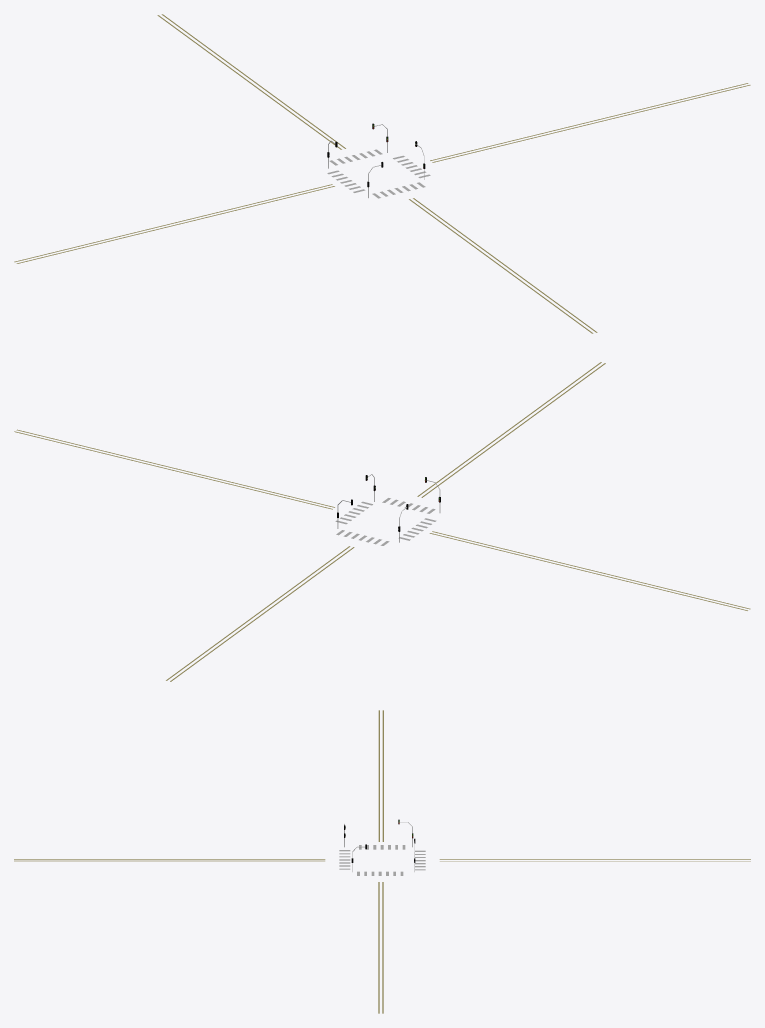
Rendered from int-test-9.fbx.
3 renders of one model, top to bottom at view 1: azimuth 30°, elevation 25°; view 2: azimuth 150°, elevation 25°; view 3: azimuth 270°, elevation 25°, orthographic. The views are drawn at different scales.
Visible parts, largest first — view 1: STRET_LN.000, STRET_LN.015_STRET_LN.000, STRET_LN.016_STRET_LN.000, STRET_LN.012_STRET_LN.000; view 2: STRET_LN.015_STRET_LN.000, STRET_LN.000, STRET_LN.012_STRET_LN.000, STRET_LN.016_STRET_LN.000; view 3: STRET_LN.016_STRET_LN.000, STRET_LN.012_STRET_LN.000, STRET_LN.000, STRET_LN.015_STRET_LN.000.
Part boxes in pixels (bbox=[...]): STRET_LN.000: bbox=[14, 184, 334, 263]; STRET_LN.015_STRET_LN.000: bbox=[430, 83, 750, 162]; STRET_LN.016_STRET_LN.000: bbox=[409, 198, 597, 333]; STRET_LN.012_STRET_LN.000: bbox=[157, 14, 345, 149]; STRET_LN.015_STRET_LN.000: bbox=[14, 429, 334, 509]; STRET_LN.000: bbox=[429, 531, 750, 610]; STRET_LN.012_STRET_LN.000: bbox=[166, 546, 354, 681]; STRET_LN.016_STRET_LN.000: bbox=[417, 362, 605, 497]; STRET_LN.016_STRET_LN.000: bbox=[14, 859, 325, 861]; STRET_LN.012_STRET_LN.000: bbox=[439, 859, 750, 861]; STRET_LN.000: bbox=[378, 710, 383, 841]; STRET_LN.015_STRET_LN.000: bbox=[378, 882, 383, 1013].
Size of what is drawn, in the model's own units: 19768 by 838 by 20302.
